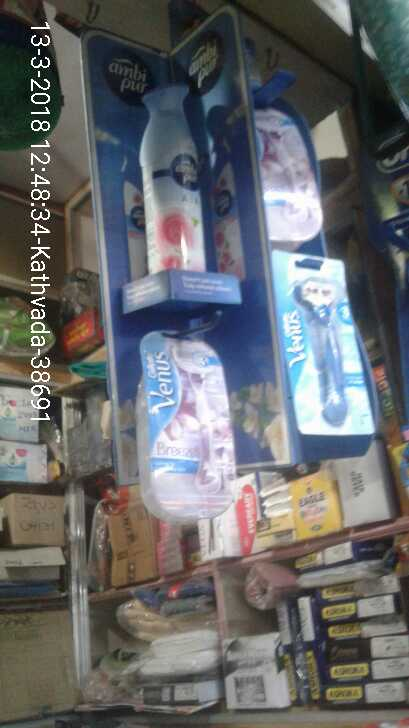beauty: (132, 322, 242, 525), (269, 242, 378, 444)
home: (140, 64, 217, 285)
